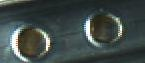joints: (10, 22, 52, 61), (83, 9, 124, 46)
